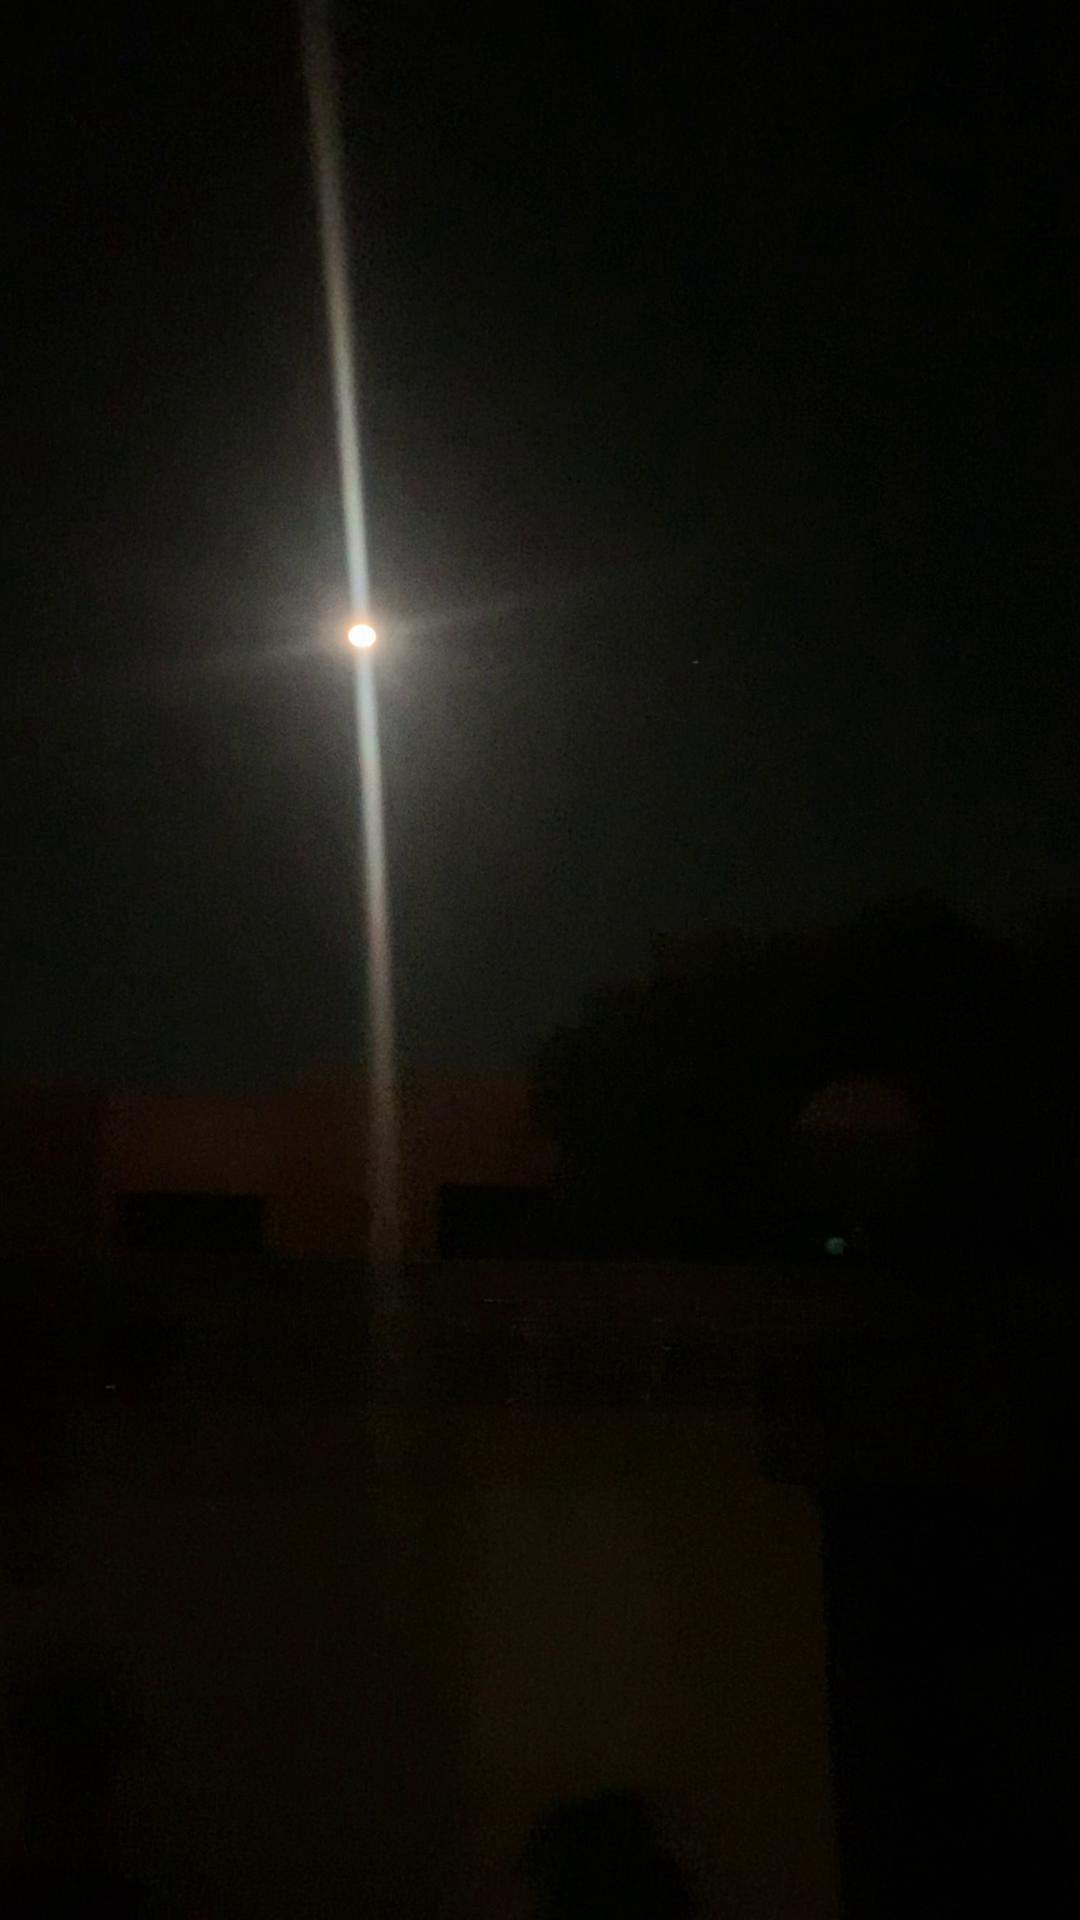moon: (332, 595, 407, 674)
